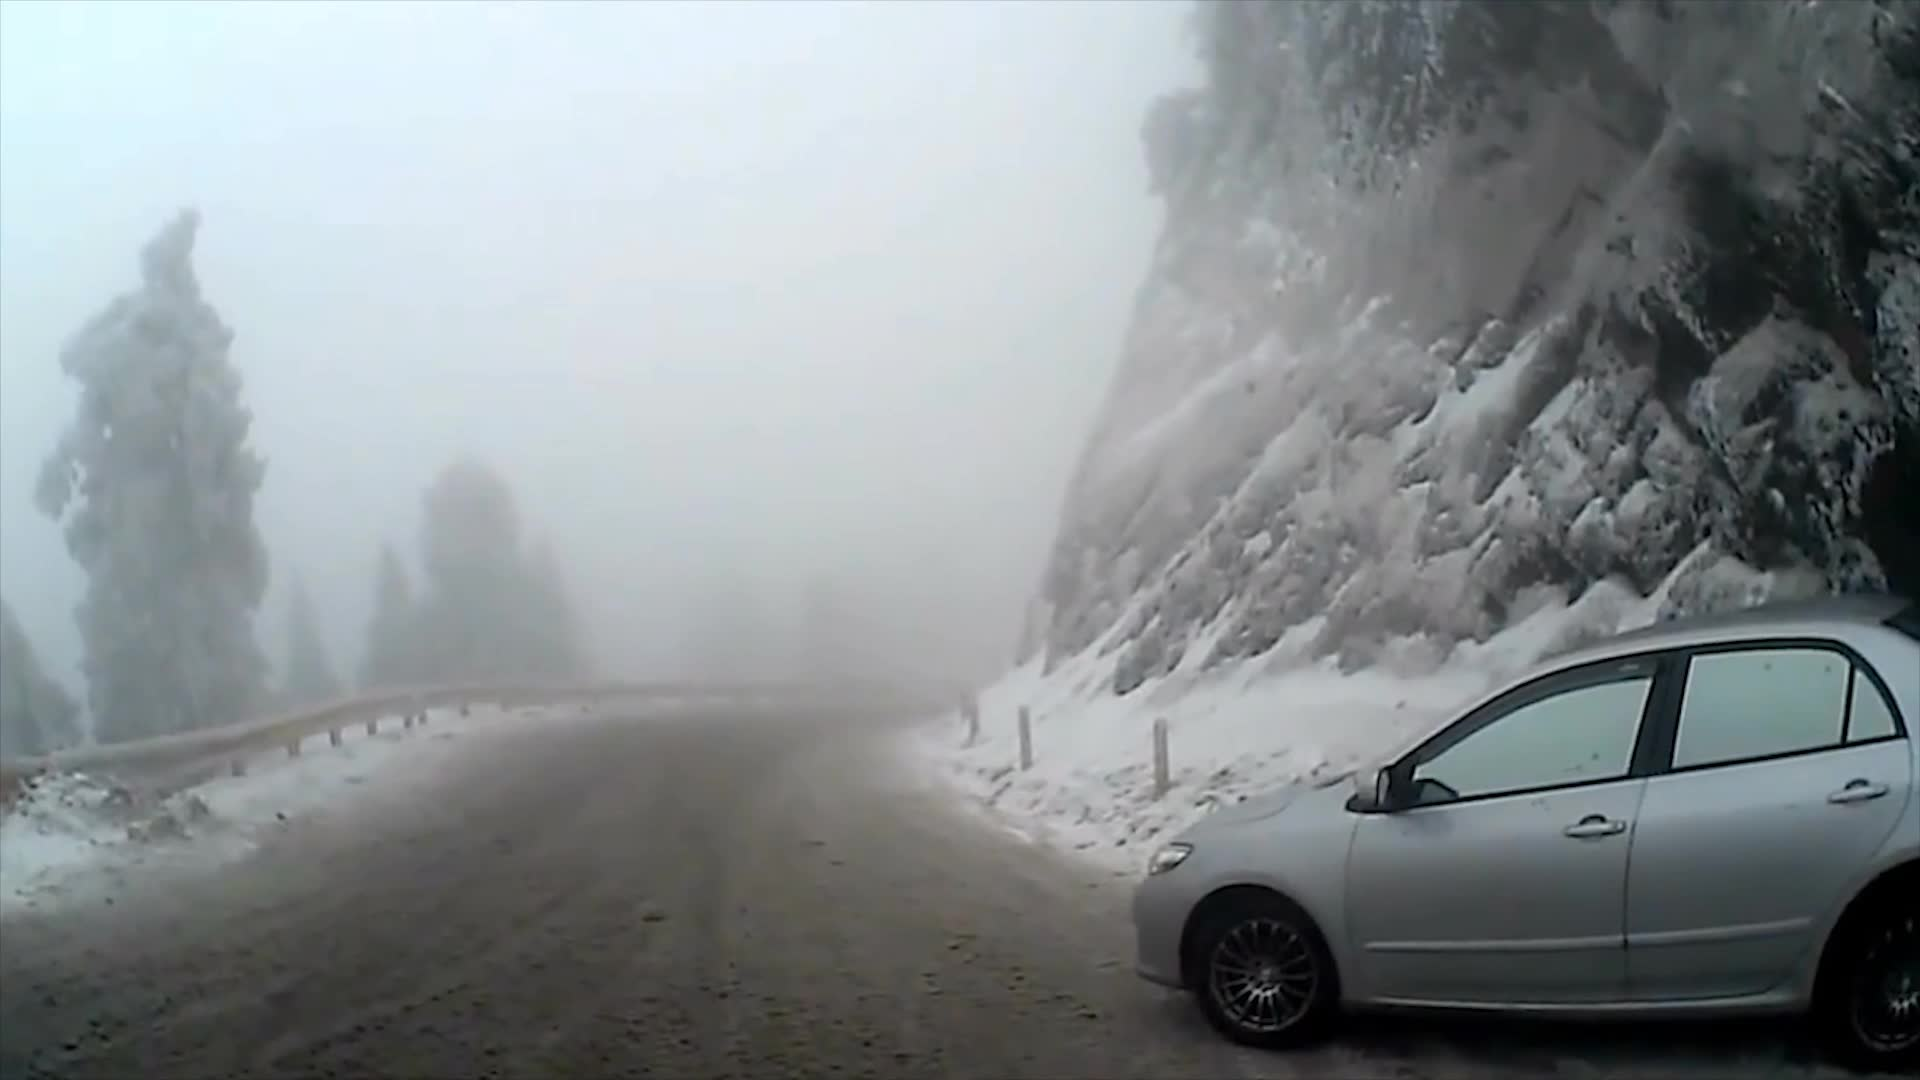vehicle: (1127, 589, 1920, 1077)
